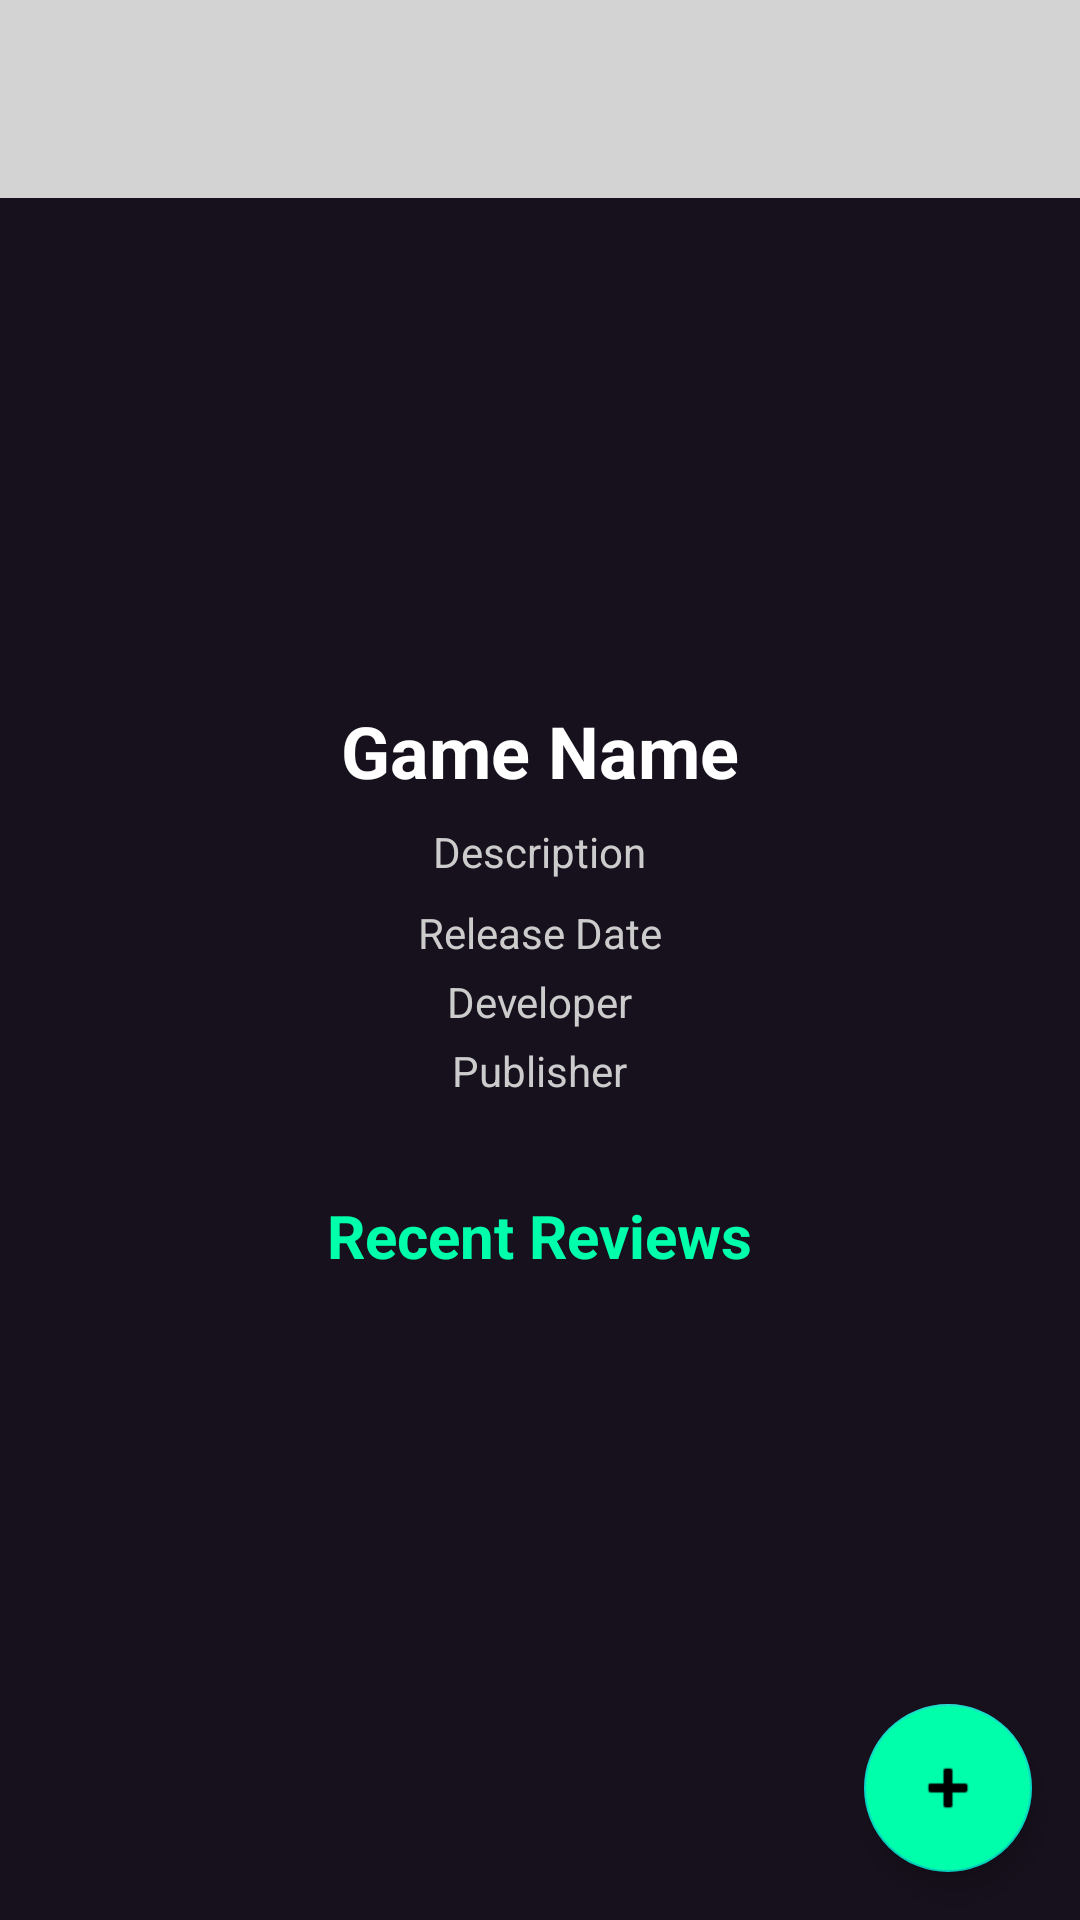

Icons on this 1080 × 1920 Android screen, each with the point to tap as (x=x, y=y):
Add Review: (x=948, y=1788)
